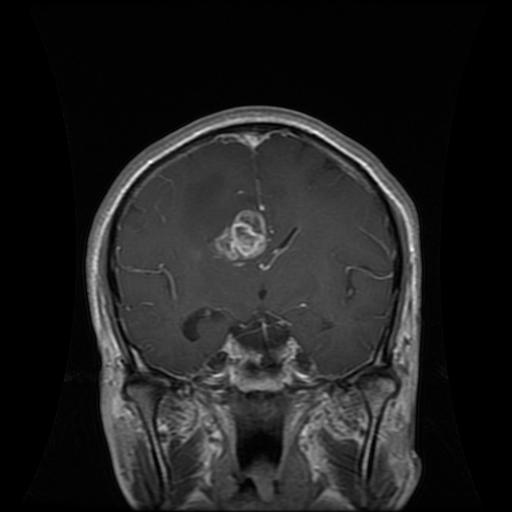Gliomia_tumour: (204, 204, 272, 266)
